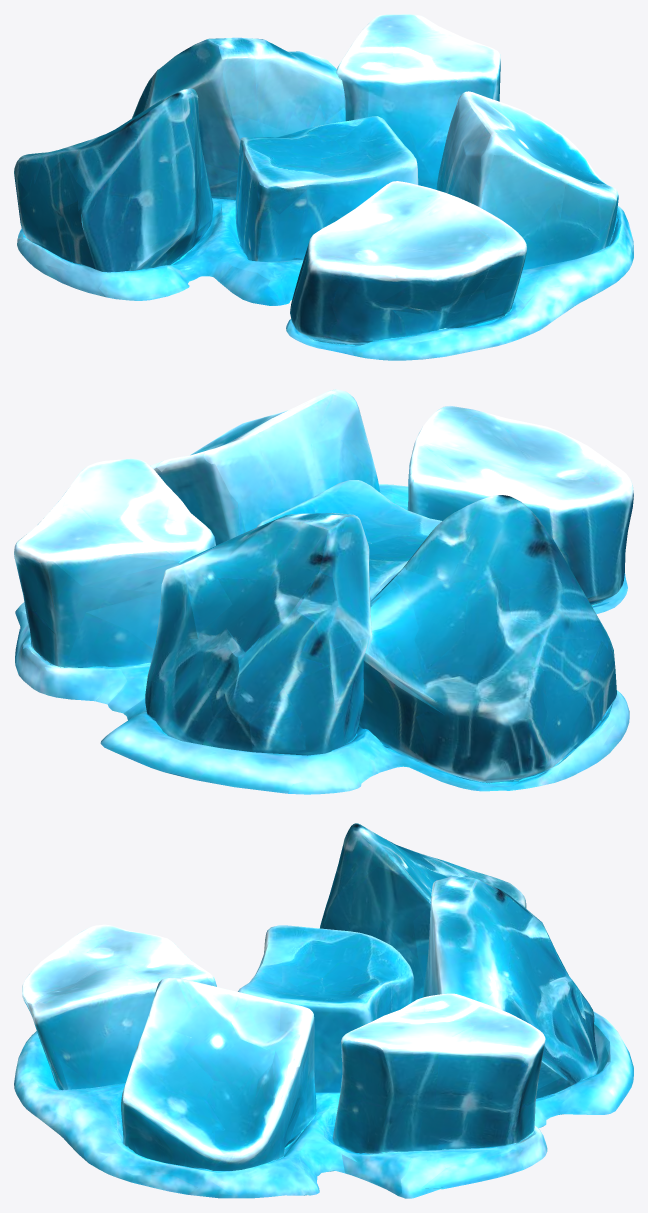
The model's file is min-ice-final.glb.
The picture shows the model from 3 angles, top to bottom: view 1: azimuth 30°, elevation 25°; view 2: azimuth 150°, elevation 25°; view 3: azimuth 270°, elevation 25°; orthographic projection. The views are drawn at different scales.
Parts seen in each view (by area): view 1: Mesh_0; view 2: Mesh_0; view 3: Mesh_0.
Boxes of the visible parts, <box> form: Mesh_0: <box>14,14,633,360</box>; Mesh_0: <box>14,389,633,794</box>; Mesh_0: <box>14,823,633,1198</box>.
Size of the model in its own units: 0.0904 by 0.03 by 0.0943.
Materials: 1 (1 with a texture image).
